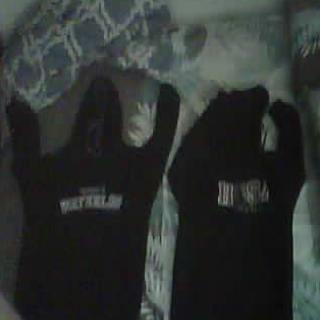HOSA Hoodie: (172, 80, 308, 320)
Waterloo Hoodie: (5, 72, 166, 320)
